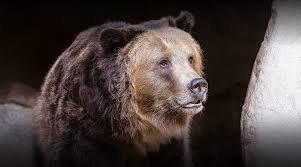bear: (31, 9, 210, 167)
